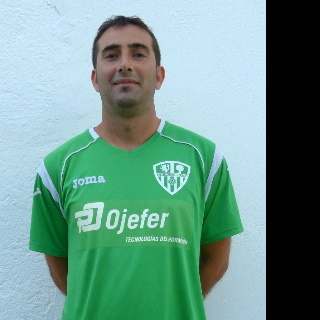without_mask: (96, 23, 157, 103)
